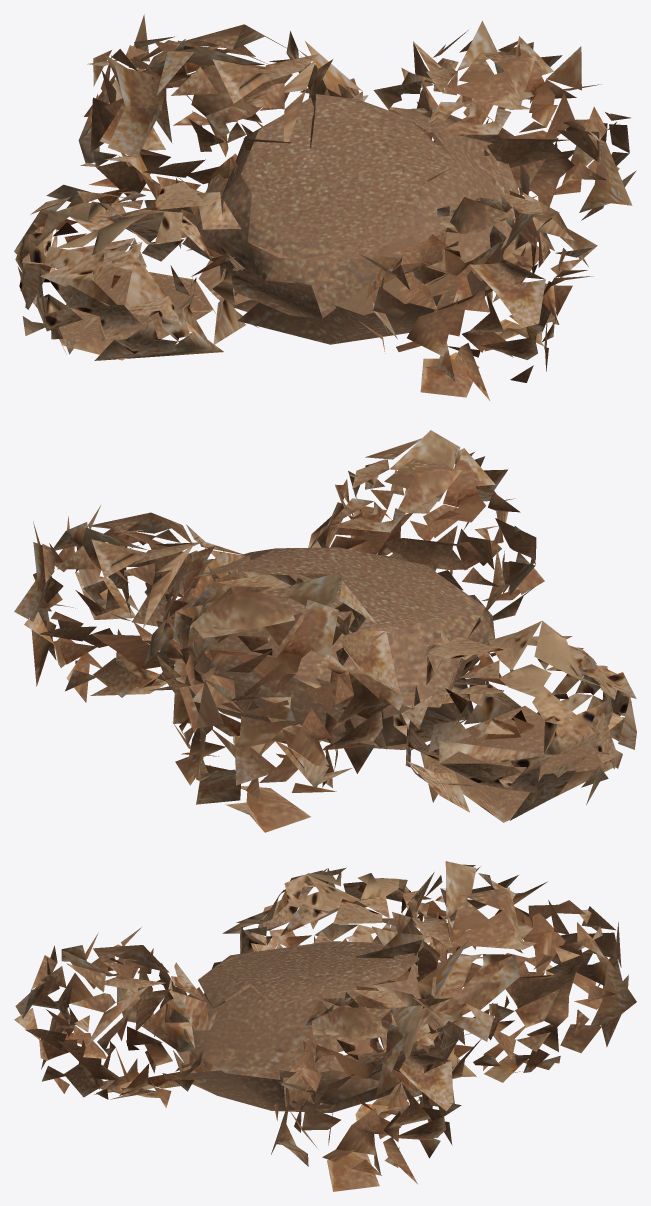
File: desert_pebble_b_heap_lod1.glb
3 views of the same model, one above another, from view 1: azimuth 30°, elevation 25°; view 2: azimuth 150°, elevation 25°; view 3: azimuth 270°, elevation 25° (orthographic). The views are drawn at different scales.
Visible parts, largest first — view 1: desert_pebble_b_heap.001; view 2: desert_pebble_b_heap.001; view 3: desert_pebble_b_heap.001.
Boxes of the visible parts, <box> form: desert_pebble_b_heap.001: <box>14,14,636,400</box>; desert_pebble_b_heap.001: <box>14,430,636,832</box>; desert_pebble_b_heap.001: <box>14,861,636,1191</box>.
Bounding box in the file's own units: 3.03 × 1.13 × 3.12.
3 materials, 3 textured.
